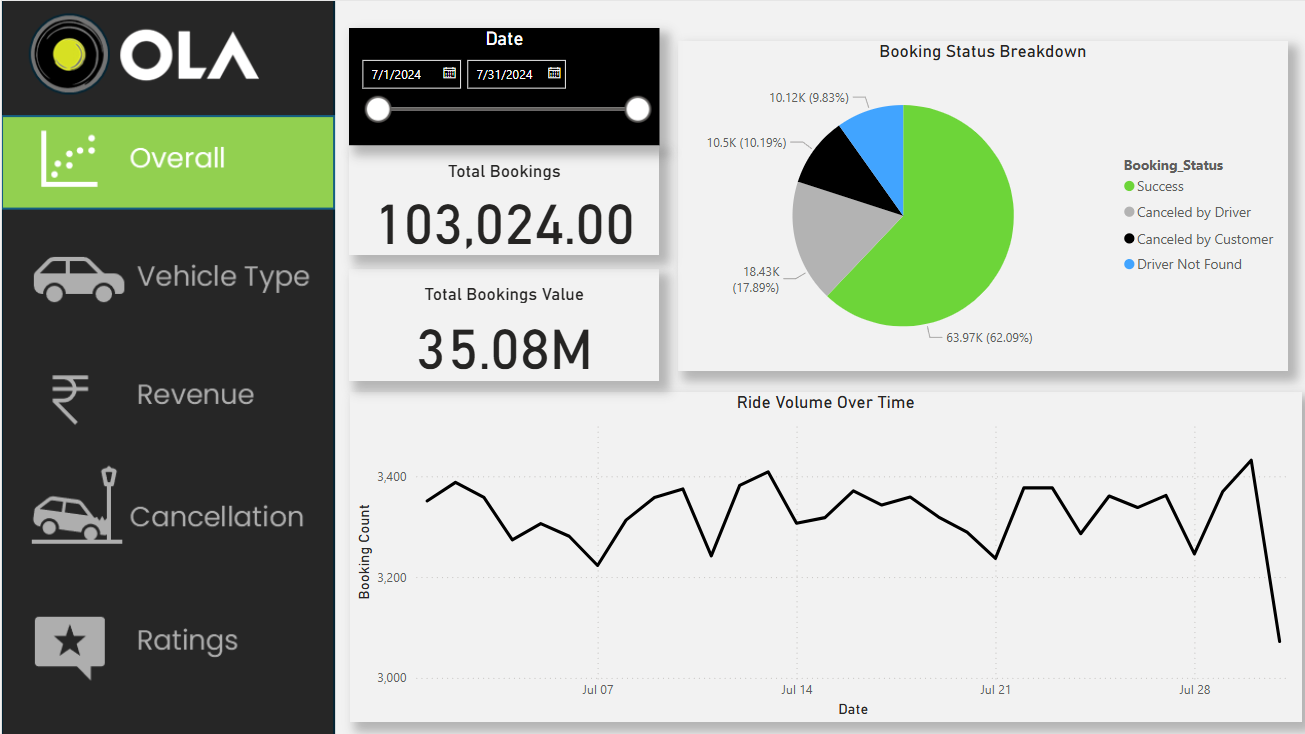

The page's visual inventory and layout, read from the dashboard file:
{"tool":"powerbi","page":{"name":"Overall","canvas":[1280,720],"ordinal":0},"visuals":[{"type":"actionButton","box":[0,210.7,324,104.5],"z":0},{"type":"actionButton","box":[0,327.5,324,104.5],"z":1000},{"type":"actionButton","box":[0,441.7,324,104.5],"z":2000},{"type":"actionButton","box":[0,569,324,104.5],"z":3000},{"type":"lineChart","title":"Ride Volume Over Time","fields":{"Y":["CountNonNull(Bookings.Booking_ID)"],"Category":["Bookings.Date"]},"box":[338.9,380,925.6,321.1],"z":4000},{"type":"pieChart","title":"Booking Status Breakdown","fields":{"Category":["Bookings.Booking_Status"],"Y":["CountNonNull(Bookings.Booking_Status)"]},"box":[657.8,38.9,593.3,321.1],"z":5000},{"type":"slicer","title":"Date","fields":{"Values":["Bookings.Date"]},"box":[337.8,26.7,302.2,114.4],"z":6000},{"type":"card","title":"Total Bookings","fields":{"Values":["CountNonNull(Bookings.Booking_ID)"]},"box":[337.8,141.1,302.2,105.6],"z":7000},{"type":"card","title":"Total Bookings Value","fields":{"Values":["Sum(Bookings.Booking_Value)"]},"box":[337.8,261.1,302.2,108.9],"z":8000}]}

Visuals, with their boxes in screenshot pixels (x1, y1, x2, y2), scaled from the page's 1280x720 canvas onto the 1305x734 screenshot:
actionButton: crop(0, 215, 330, 321)
actionButton: crop(0, 334, 330, 440)
actionButton: crop(0, 450, 330, 557)
actionButton: crop(0, 580, 330, 687)
"Ride Volume Over Time" lineChart: crop(346, 387, 1289, 715)
"Booking Status Breakdown" pieChart: crop(671, 40, 1276, 367)
"Date" slicer: crop(344, 27, 652, 144)
"Total Bookings" card: crop(344, 144, 652, 251)
"Total Bookings Value" card: crop(344, 266, 652, 377)
